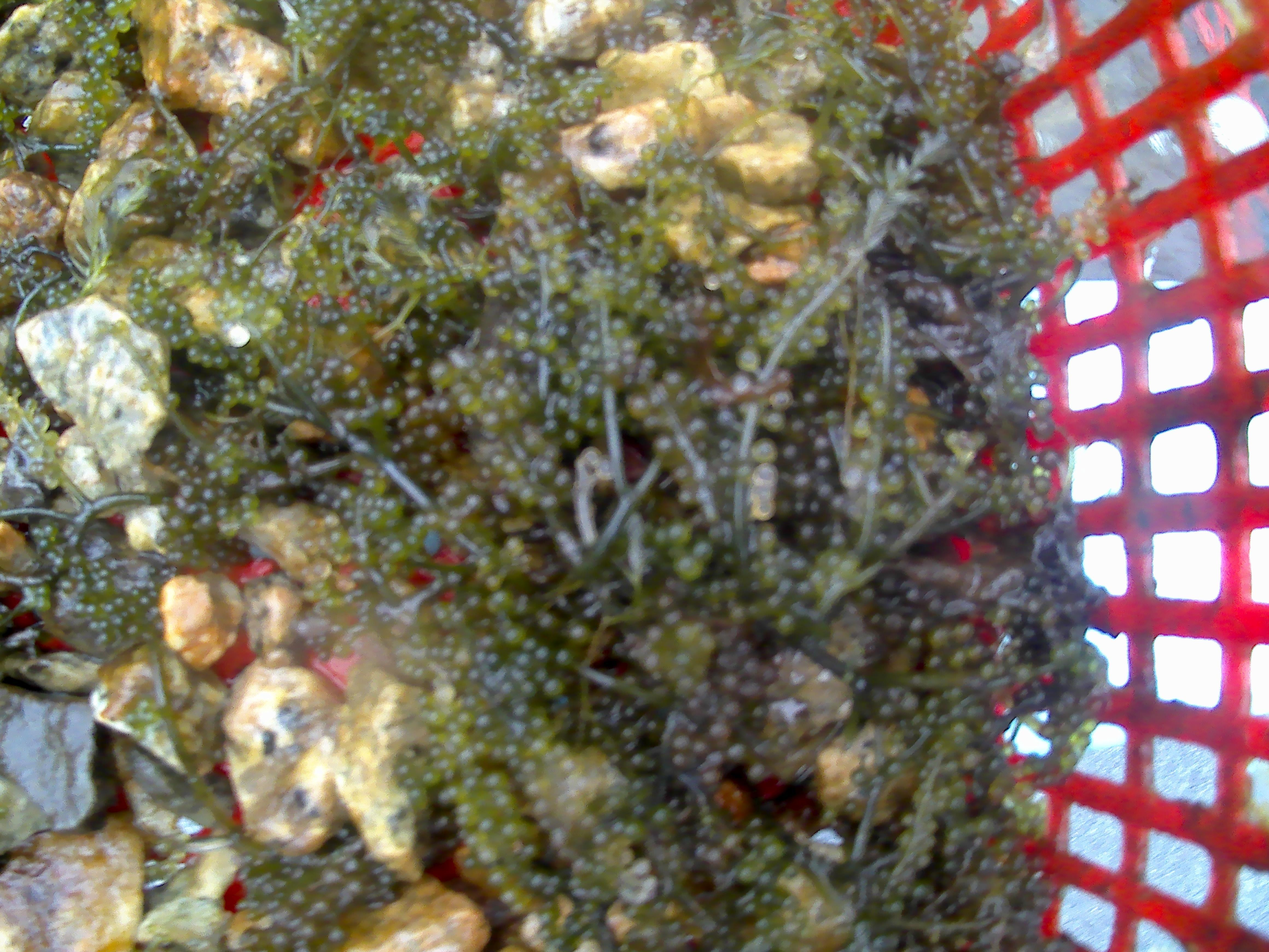Darkening: (175, 172, 197, 195), (908, 615, 931, 636), (925, 598, 946, 621), (738, 680, 762, 700), (905, 587, 926, 609), (653, 435, 674, 456), (516, 351, 538, 371), (886, 614, 905, 637), (709, 722, 729, 743), (182, 503, 202, 523), (181, 483, 202, 502), (866, 612, 887, 630), (203, 486, 221, 507), (964, 344, 982, 365), (1040, 449, 1057, 470), (798, 523, 816, 542), (404, 388, 424, 404), (20, 380, 36, 399), (441, 442, 456, 462), (721, 673, 738, 690), (723, 700, 739, 718), (58, 579, 76, 595), (419, 452, 439, 466), (40, 394, 56, 411), (171, 207, 187, 224), (796, 470, 810, 489), (52, 417, 68, 433), (436, 399, 453, 414), (186, 168, 201, 185), (423, 424, 441, 438), (646, 716, 658, 737), (743, 657, 758, 673), (706, 751, 722, 766), (674, 734, 690, 749), (761, 665, 774, 683), (786, 442, 799, 460), (692, 739, 707, 754), (816, 433, 832, 447), (802, 389, 818, 403), (621, 728, 637, 742), (408, 368, 421, 385), (628, 754, 645, 767), (624, 700, 635, 720), (820, 482, 835, 496), (398, 419, 412, 434), (235, 539, 249, 554), (750, 764, 765, 777), (729, 744, 744, 757), (215, 548, 230, 561), (421, 398, 433, 414), (793, 414, 805, 430), (601, 739, 618, 750), (673, 753, 686, 767), (704, 770, 717, 783), (817, 454, 828, 469), (400, 435, 416, 445), (407, 405, 418, 417)
Harvestable: (673, 555, 702, 582), (751, 438, 778, 464), (667, 521, 692, 545), (458, 392, 481, 415), (763, 411, 785, 433), (478, 842, 499, 865), (776, 614, 797, 636), (505, 625, 526, 646), (692, 540, 713, 560), (489, 870, 510, 889), (500, 889, 522, 907), (428, 709, 447, 729), (448, 784, 468, 803), (651, 808, 670, 828), (466, 831, 488, 848), (544, 678, 564, 696), (457, 711, 474, 731), (455, 804, 477, 819), (205, 453, 224, 470), (241, 493, 259, 510), (519, 681, 537, 698), (228, 297, 244, 316), (735, 463, 752, 480), (34, 596, 51, 613), (450, 734, 468, 750), (1066, 641, 1082, 658), (186, 346, 202, 362), (222, 467, 238, 483), (184, 327, 199, 343), (104, 1, 120, 16), (163, 319, 178, 334), (515, 332, 529, 348), (564, 429, 578, 445), (458, 817, 478, 828), (534, 668, 548, 683), (117, 17, 130, 33), (133, 269, 147, 283), (535, 646, 549, 660), (82, 76, 95, 91), (144, 285, 157, 299), (169, 304, 182, 318), (64, 18, 78, 31), (523, 638, 537, 651), (131, 311, 146, 323), (142, 306, 157, 318), (171, 335, 183, 348), (88, 37, 100, 50), (129, 292, 141, 304), (83, 2, 95, 14), (106, 45, 117, 58), (98, 32, 109, 45), (132, 282, 145, 292), (87, 51, 97, 64), (11, 387, 22, 398), (96, 58, 106, 70), (87, 21, 98, 31), (75, 132, 85, 143), (97, 118, 107, 128)
Whitening: (736, 346, 762, 372), (756, 463, 778, 486), (595, 456, 617, 479), (748, 500, 775, 518), (730, 374, 752, 396), (754, 468, 776, 489), (750, 485, 774, 503), (842, 468, 863, 488), (156, 265, 175, 287), (32, 414, 50, 434), (600, 465, 616, 481), (705, 274, 720, 290), (364, 226, 379, 242), (584, 449, 599, 464), (595, 460, 610, 475), (793, 47, 807, 61), (866, 480, 880, 494), (44, 20, 58, 33)
